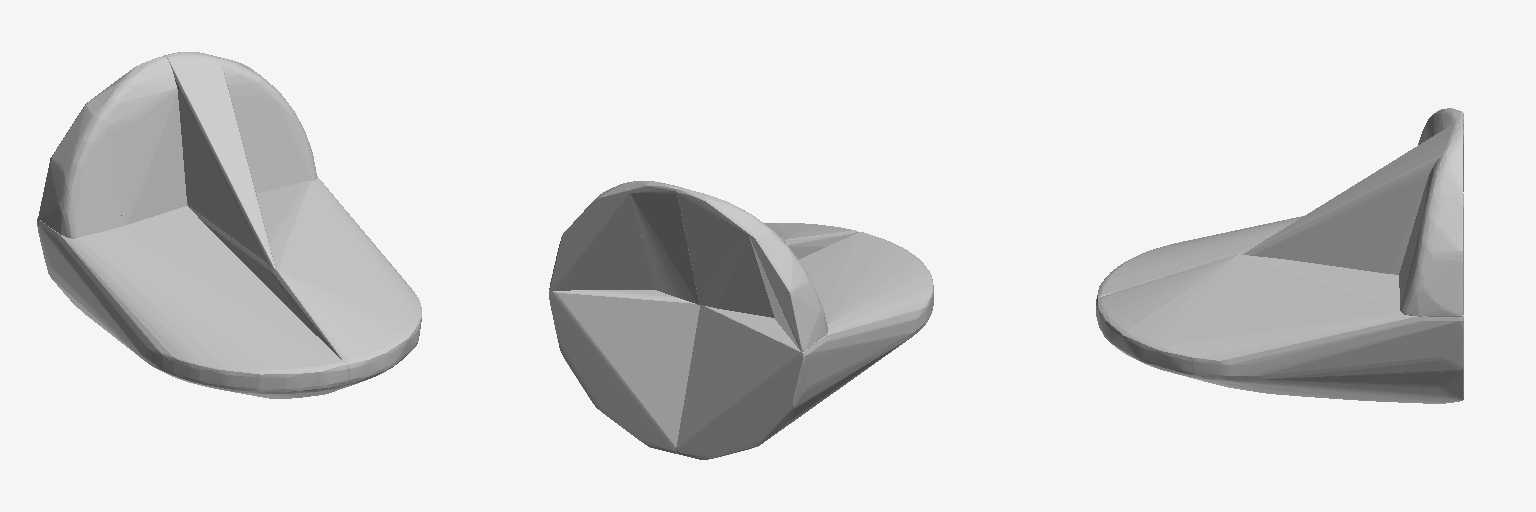
The model's file is arm-L1_split.obj.
3 renders of one model, left to right at view 1: azimuth 30°, elevation 25°; view 2: azimuth 150°, elevation 25°; view 3: azimuth 270°, elevation 25°, orthographic.
Visible parts, largest first — view 1: geometry_0, geometry_3, geometry_5, geometry_1, geometry_2, geometry_4; view 2: geometry_0, geometry_3, geometry_1, geometry_4, geometry_5, geometry_2; view 3: geometry_3, geometry_5, geometry_4, geometry_0, geometry_1.
Boxes of the visible parts, <box> form: geometry_0: <box>37,206,347,398</box>; geometry_3: <box>189,176,421,393</box>; geometry_5: <box>164,52,274,267</box>; geometry_1: <box>94,56,187,225</box>; geometry_2: <box>38,98,122,238</box>; geometry_4: <box>216,56,316,193</box>; geometry_0: <box>676,232,933,459</box>; geometry_3: <box>549,223,857,453</box>; geometry_1: <box>676,187,774,317</box>; geometry_4: <box>549,181,654,290</box>; geometry_5: <box>630,181,785,304</box>; geometry_2: <box>749,223,827,351</box>; geometry_3: <box>1096,254,1463,403</box>; geometry_5: <box>1243,122,1463,274</box>; geometry_4: <box>1399,153,1462,316</box>; geometry_0: <box>1096,193,1463,313</box>; geometry_1: <box>1422,108,1463,142</box>.
Size of the model in its own units: 0.0754 by 0.0751 by 0.0932.